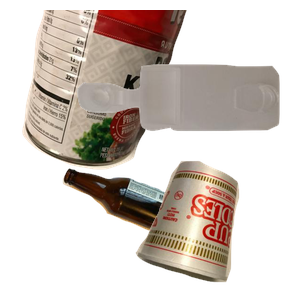glass: (60, 166, 241, 300)
metal: (20, 10, 199, 172)
plastic: (75, 62, 300, 186)
trash: (133, 158, 300, 300)
